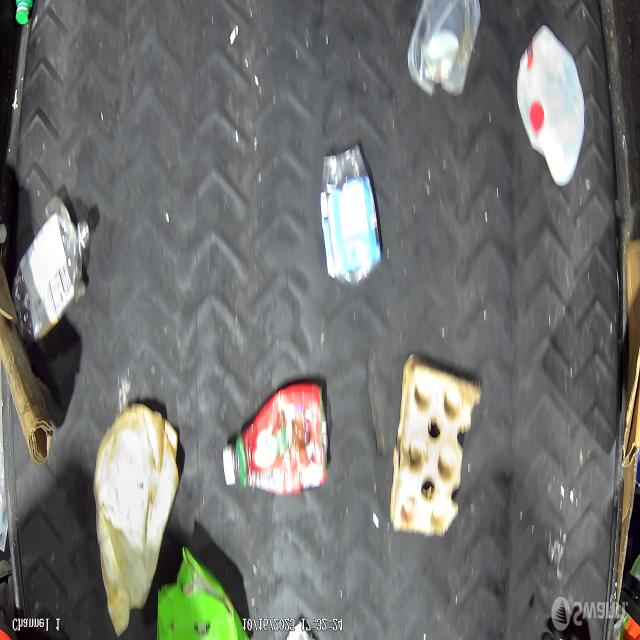milk_jug: (517, 25, 588, 185)
non_white_jug: (219, 374, 331, 494)
plastic_bottle: (11, 198, 95, 339)
